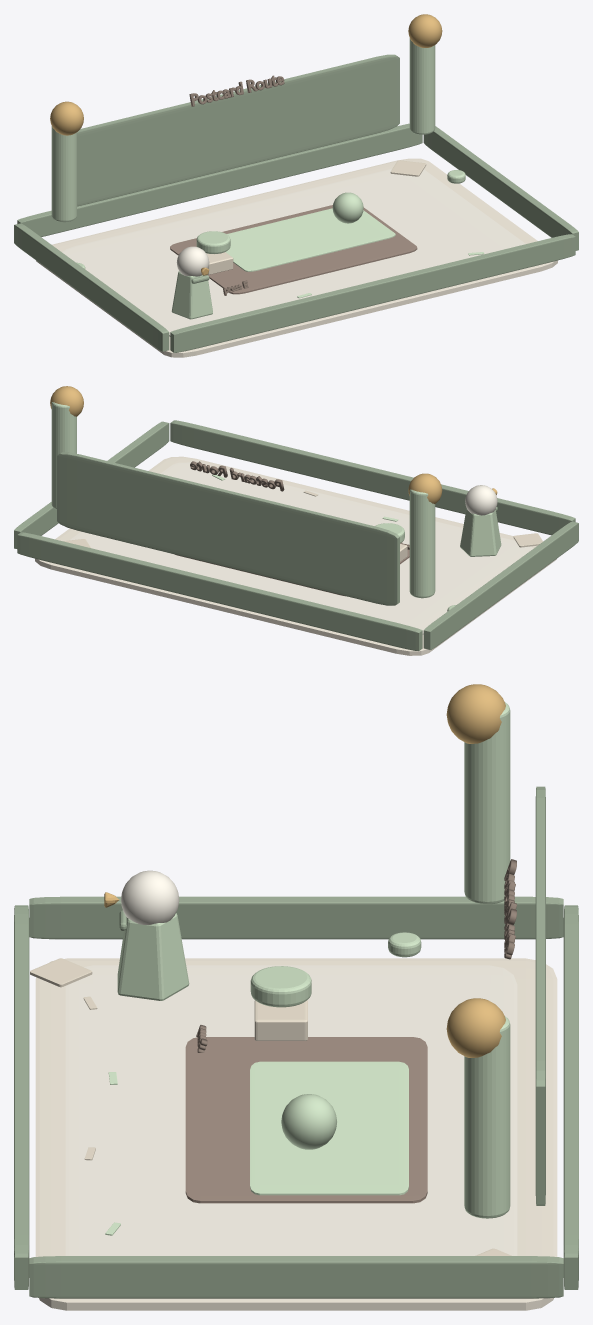
Rendered from 04_event_commands.glb.
3 renders of one model, top to bottom at view 1: azimuth 30°, elevation 25°; view 2: azimuth 150°, elevation 25°; view 3: azimuth 270°, elevation 25°, orthographic. The views are drawn at different scales.
Parts seen in each view (by area): view 1: BackCard, FloorLayerInset, SouthRail-col, NorthRail-col, PaperFloor-col, StageMatHighlight, StageMat, WestRail-col, EastRail-col, PaperLantern.001, FpeRushPlayer, PaperLantern (+7 smaller); view 2: BackCard, FloorLayerInset, NorthRail-col, SouthRail-col, PaperFloor-col, WestRail-col, PaperLantern, FpeRushPlayer, EastRail-col, PaperLantern.001, TitleLabel, LanternGlow.001 (+1 smaller); view 3: FloorLayerInset, PaperFloor-col, EastRail-col, WestRail-col, StageMat, StageMatHighlight, PaperLantern.001, PaperLantern, FpeRushPlayer, NorthRail-col, SouthRail-col, BackCard (+7 smaller).
Boxes of the visible parts, x1,y1,x2,y2 form: BackCard: (77,54,399,206); FloorLayerInset: (62,168,525,336); SouthRail-col: (170,234,575,352); NorthRail-col: (17,123,422,236); PaperFloor-col: (36,158,557,357); StageMatHighlight: (225,208,395,271); StageMat: (170,205,417,294); WestRail-col: (14,223,169,351); EastRail-col: (423,126,578,250); PaperLantern.001: (409,38,435,134); FpeRushPlayer: (171,246,212,319); PaperLantern: (51,126,76,222); BackCard: (57,452,399,605); FloorLayerInset: (70,462,533,634); NorthRail-col: (17,532,422,650); SouthRail-col: (170,420,575,535); PaperFloor-col: (35,456,556,655); WestRail-col: (423,521,578,649); PaperLantern: (409,489,435,598); FpeRushPlayer: (460,485,501,556); EastRail-col: (14,421,169,548); PaperLantern.001: (51,402,76,509); TitleLabel: (190,461,284,491); LanternGlow.001: (50,386,83,416); FloorLayerInset: (65,965,517,1255); PaperFloor-col: (35,958,557,1310); EastRail-col: (29,1256,563,1298); WestRail-col: (29,896,563,939); StageMat: (185,1037,427,1203); StageMatHighlight: (250,1061,408,1195); PaperLantern.001: (464,1016,510,1218); PaperLantern: (464,702,510,904); FpeRushPlayer: (104,870,189,1000); NorthRail-col: (563,905,578,1289); SouthRail-col: (14,905,29,1289); BackCard: (535,786,545,1205).
Size of the model in its own units: 6.8 by 2.56 by 4.44.
